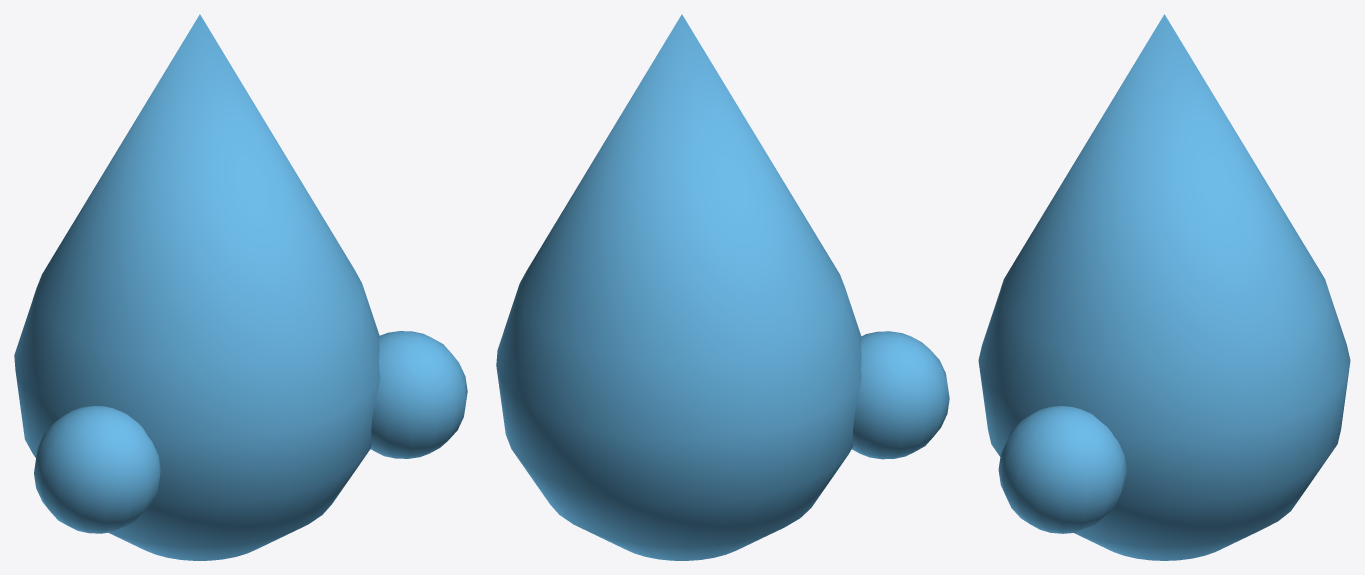
Rendered from Water Drop.fbx.
3 renders of one model, left to right at view 1: azimuth 30°, elevation 25°; view 2: azimuth 150°, elevation 25°; view 3: azimuth 270°, elevation 25°, orthographic.
Visible parts, largest first — view 1: Water Drop, Arm R, Arm L; view 2: Water Drop, Arm R; view 3: Water Drop, Arm L.
Part boxes in pixels (bbox=[...]): Water Drop: bbox=[14, 14, 380, 560]; Arm R: bbox=[34, 406, 160, 533]; Arm L: bbox=[370, 331, 467, 458]; Water Drop: bbox=[496, 14, 861, 560]; Arm R: bbox=[852, 331, 949, 459]; Water Drop: bbox=[978, 14, 1350, 560]; Arm L: bbox=[998, 406, 1126, 533].
Size of the model in its own units: 0.8013 by 1 by 0.6183.
